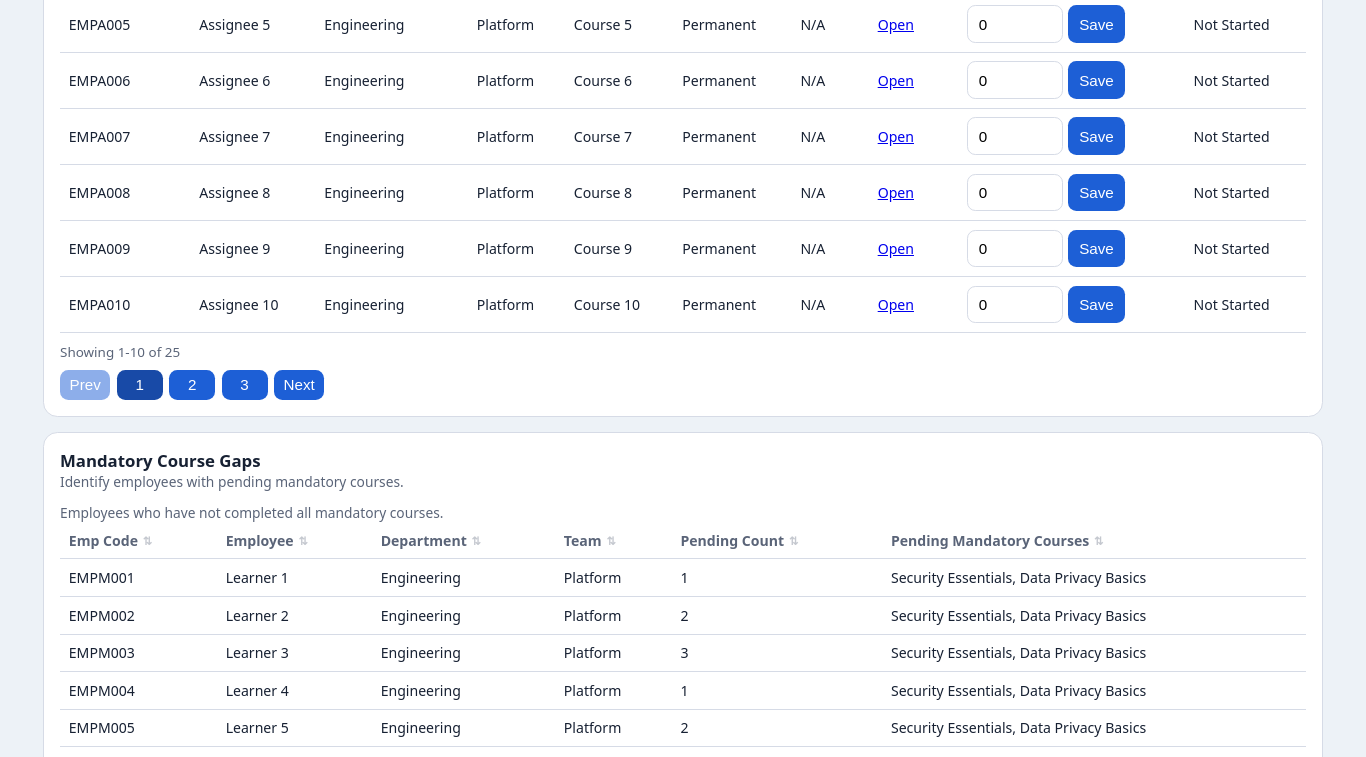
Test case: App Progress Tracker (manager assignments) pagination › shows paged assignments and navigates to next page
The width and height of the screenshot is (1366, 757).
(page scrolled)
Expected: the text "EMPA011" is not shown
Click the button "Next".
click(299, 385)  # box [274,370,324,400]
(page scrolled)
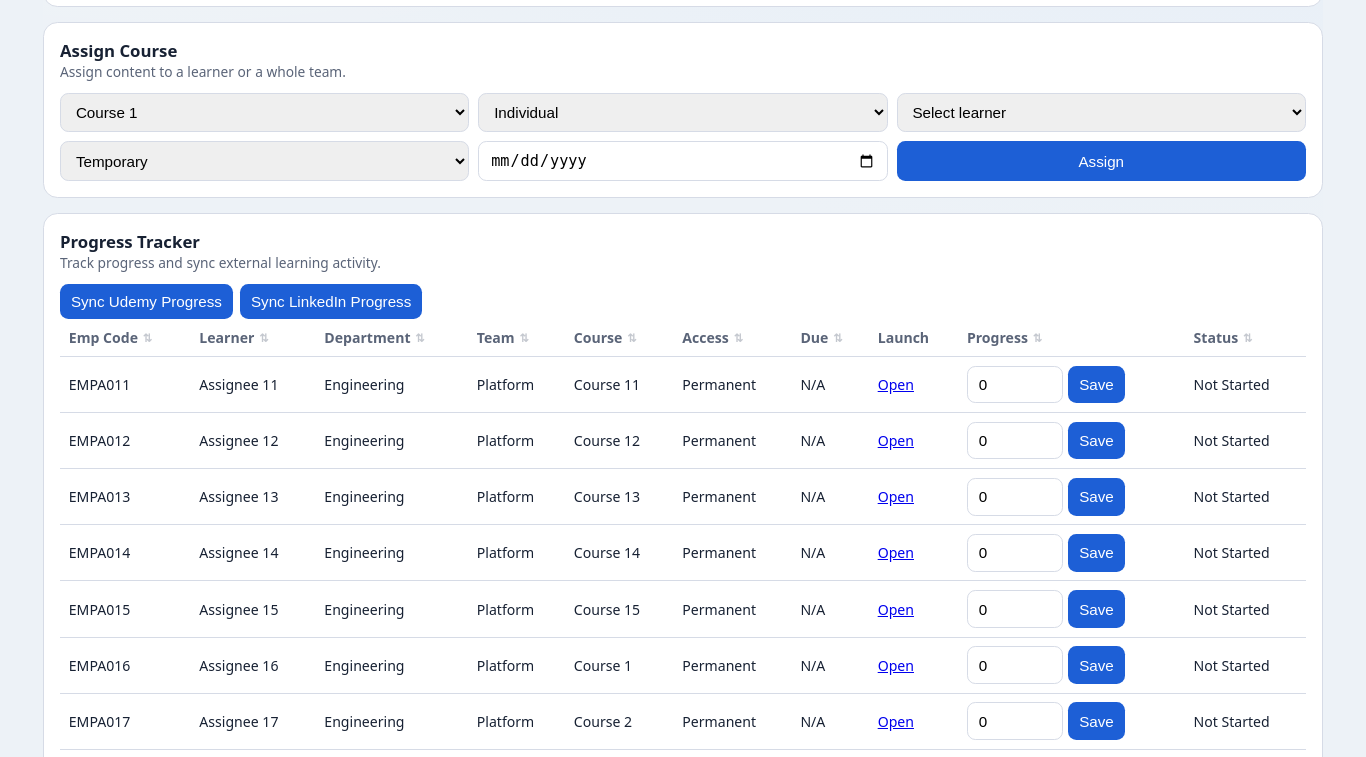
Now the text "EMPA011" is shown, box [60,356,190,412]
